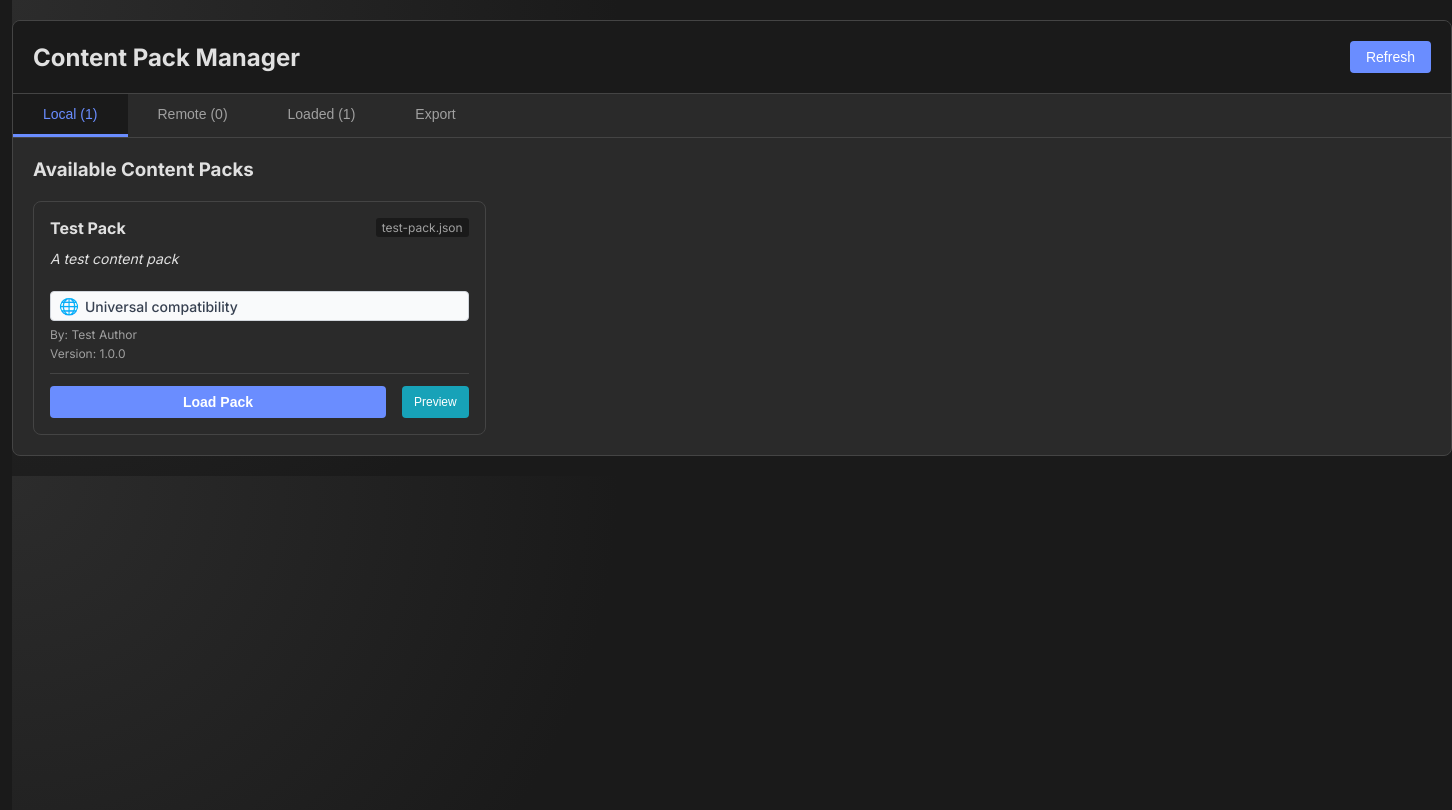
Test: ContentPackManager › switches between tabs correctly
Expected: the heading "Test Pack" is shown, [50,218,126,238]
# Switch to loaded packs tab - the actual tab shows "Loaded (1)"
Click the button "Loaded (1)" at (321, 116), box [258,94,385,137]
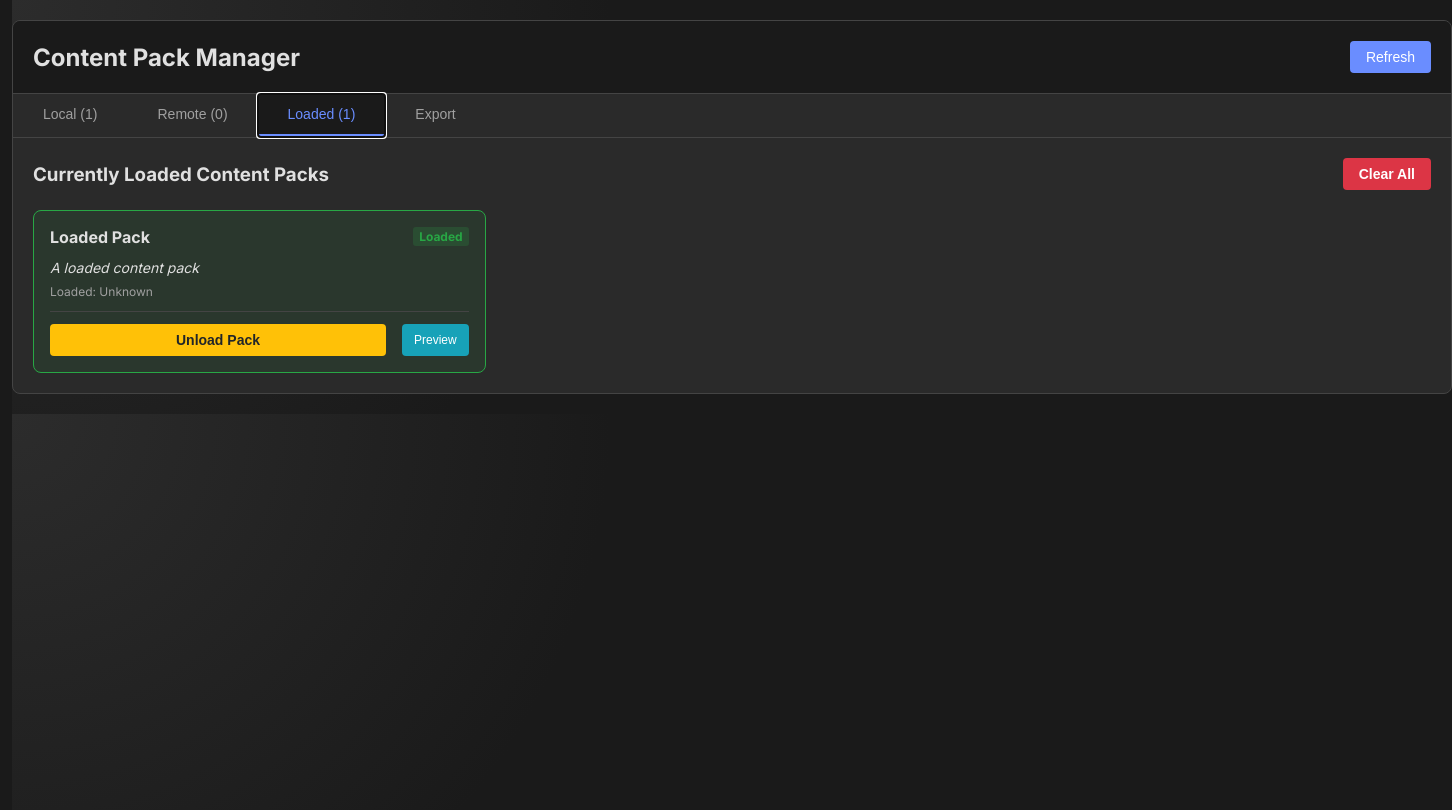
Expected: the heading "Loaded Pack" is shown, [50,227,150,247]
Expected: the text "A loaded content pack" is shown, [50,259,199,276]
